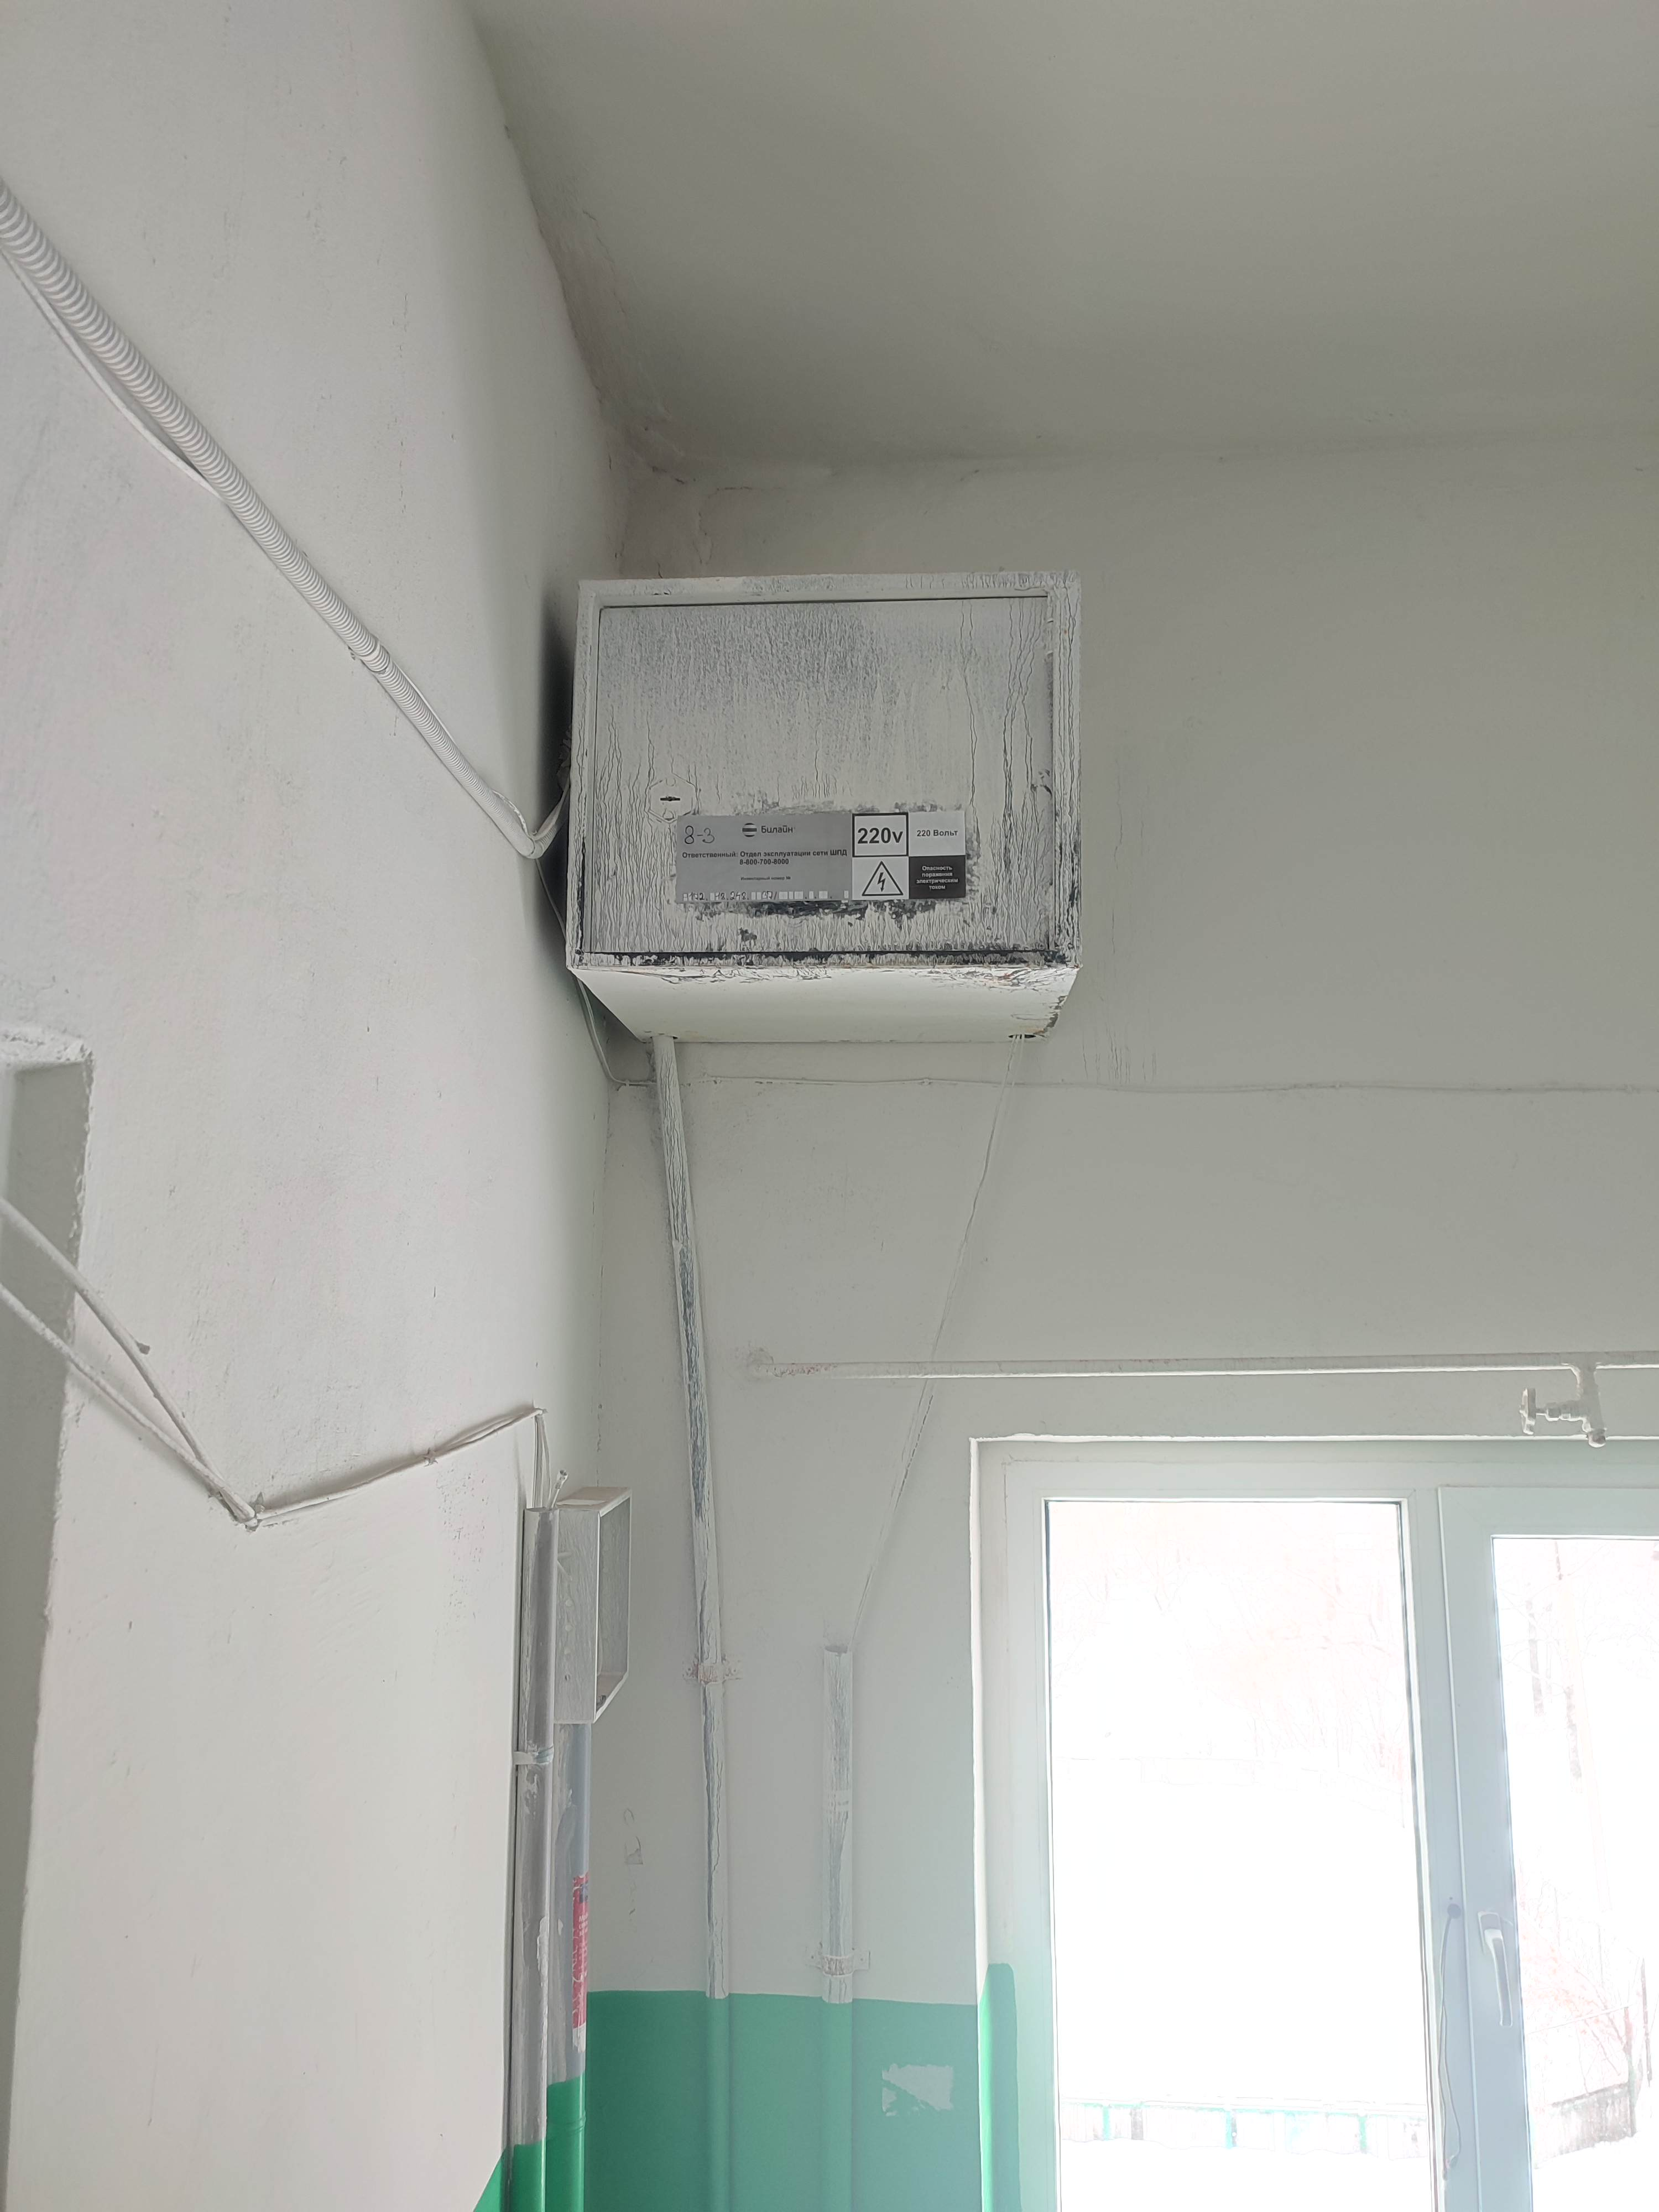shta-9m: (556, 573, 1096, 1050)
